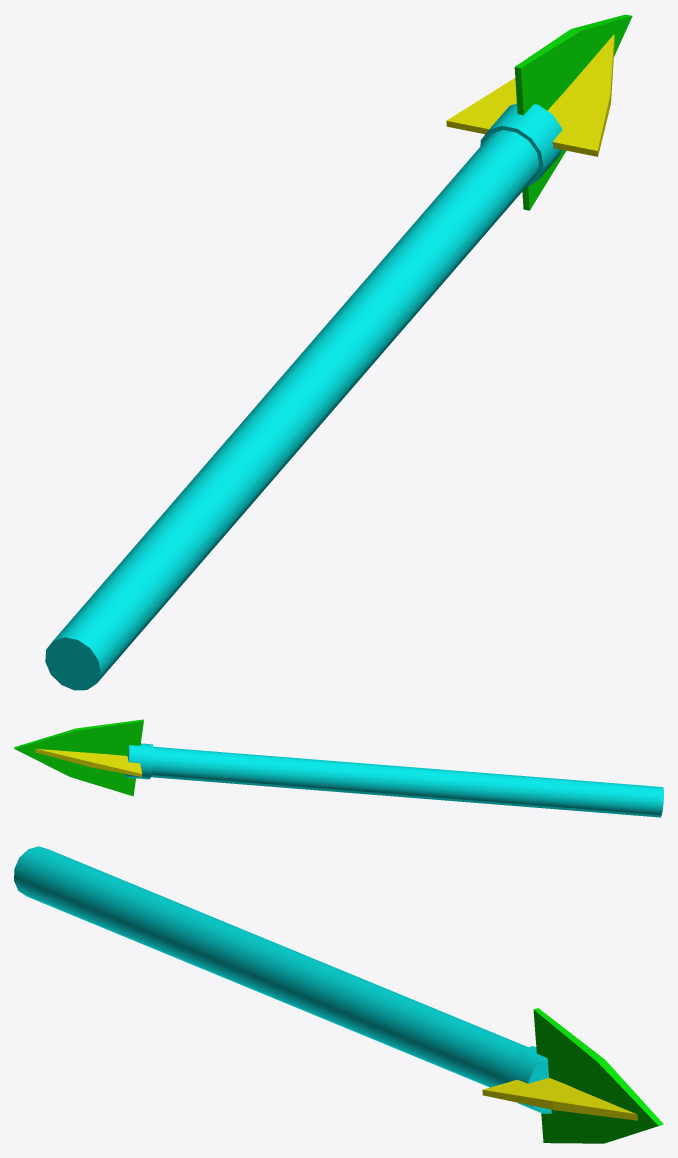
File: flecha-ballesta-f.fbx
3 views of the same model, one above another, from view 1: azimuth 30°, elevation 25°; view 2: azimuth 150°, elevation 25°; view 3: azimuth 270°, elevation 25° (orthographic). The views are drawn at different scales.
Visible parts, largest first — view 1: todo6:crossbowpCylinder28, todo6:crossbowpCube822, todo6:crossbowpCube821; view 2: todo6:crossbowpCylinder28, todo6:crossbowpCube821, todo6:crossbowpCube822; view 3: todo6:crossbowpCylinder28, todo6:crossbowpCube821, todo6:crossbowpCube822.
Part boxes in pixels (left/top/right/bottom): todo6:crossbowpCylinder28: left=45, top=103, right=562, bottom=690; todo6:crossbowpCube822: left=446, top=34, right=614, bottom=156; todo6:crossbowpCube821: left=514, top=14, right=632, bottom=210; todo6:crossbowpCylinder28: left=125, top=743, right=663, bottom=817; todo6:crossbowpCube821: left=14, top=719, right=143, bottom=796; todo6:crossbowpCube822: left=35, top=749, right=142, bottom=776; todo6:crossbowpCylinder28: left=14, top=846, right=551, bottom=1113; todo6:crossbowpCube821: left=533, top=1008, right=663, bottom=1143; todo6:crossbowpCube822: left=482, top=1078, right=638, bottom=1120.
Size of the model in its own units: 23.74 by 5.47 by 16.73.
